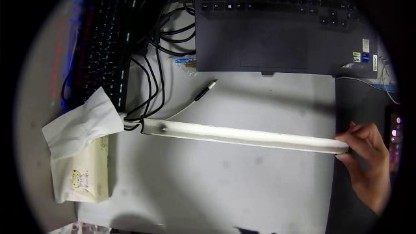gangzhu: (156, 122, 166, 134)
